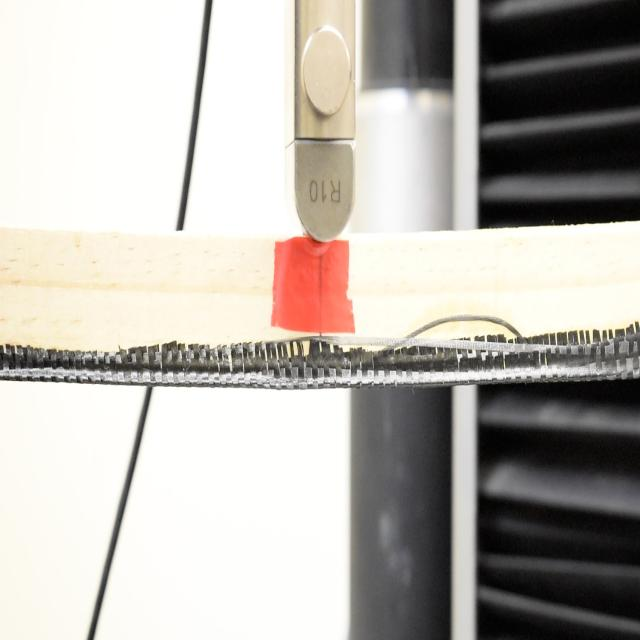wood: (0, 220, 639, 388)
